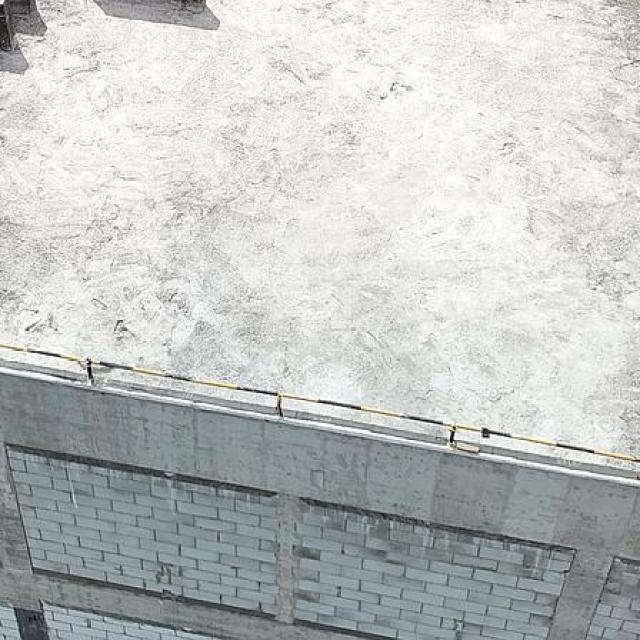edge_guardrail: (0, 336, 640, 464)
